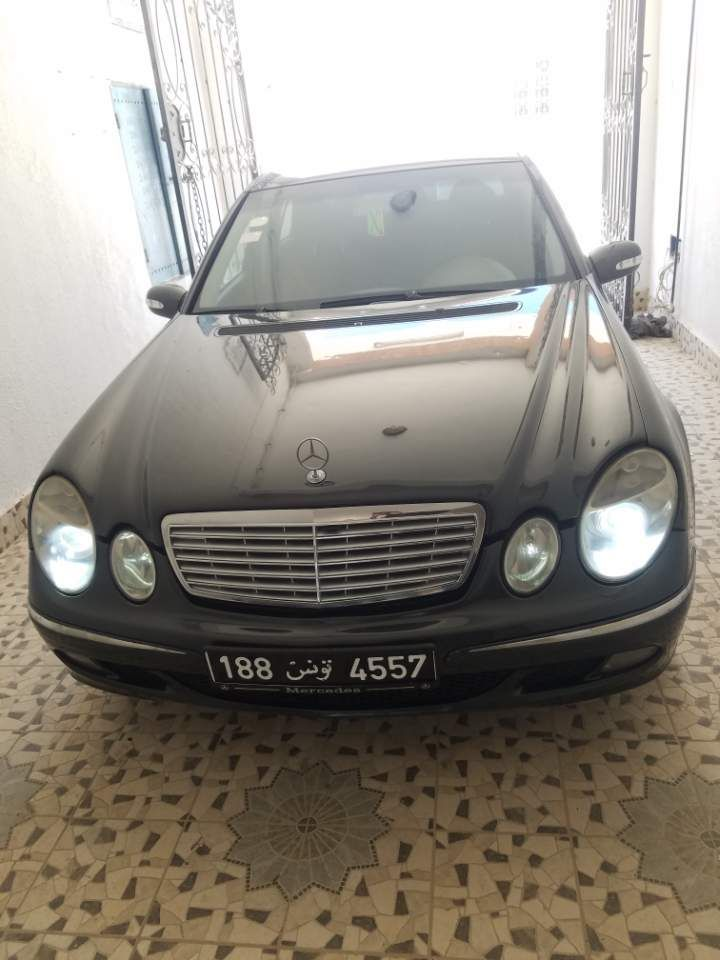LP: (206, 645, 433, 686)
